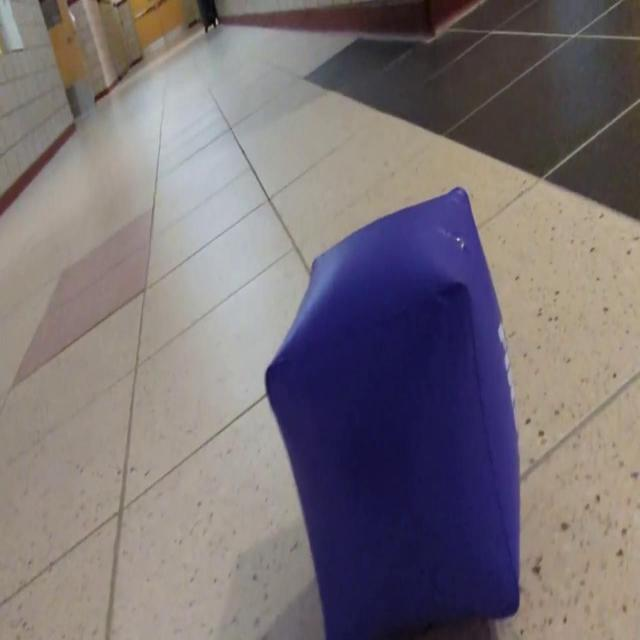frc_cube: (265, 187, 521, 640)
